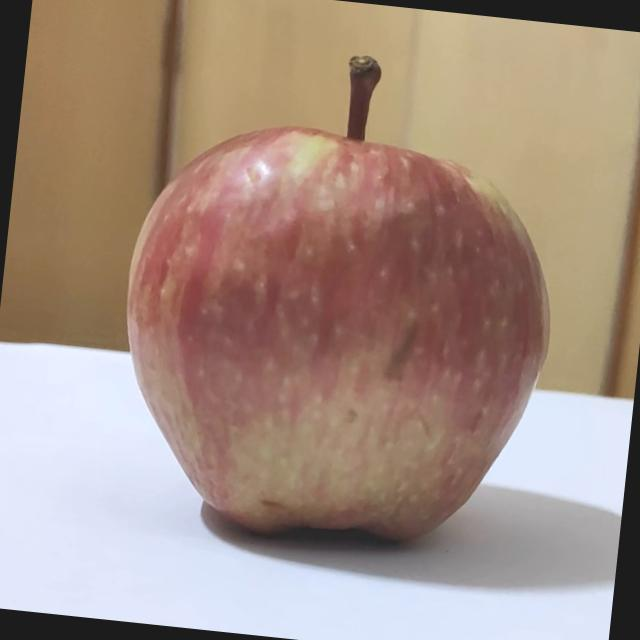apple: (97, 31, 578, 564)
